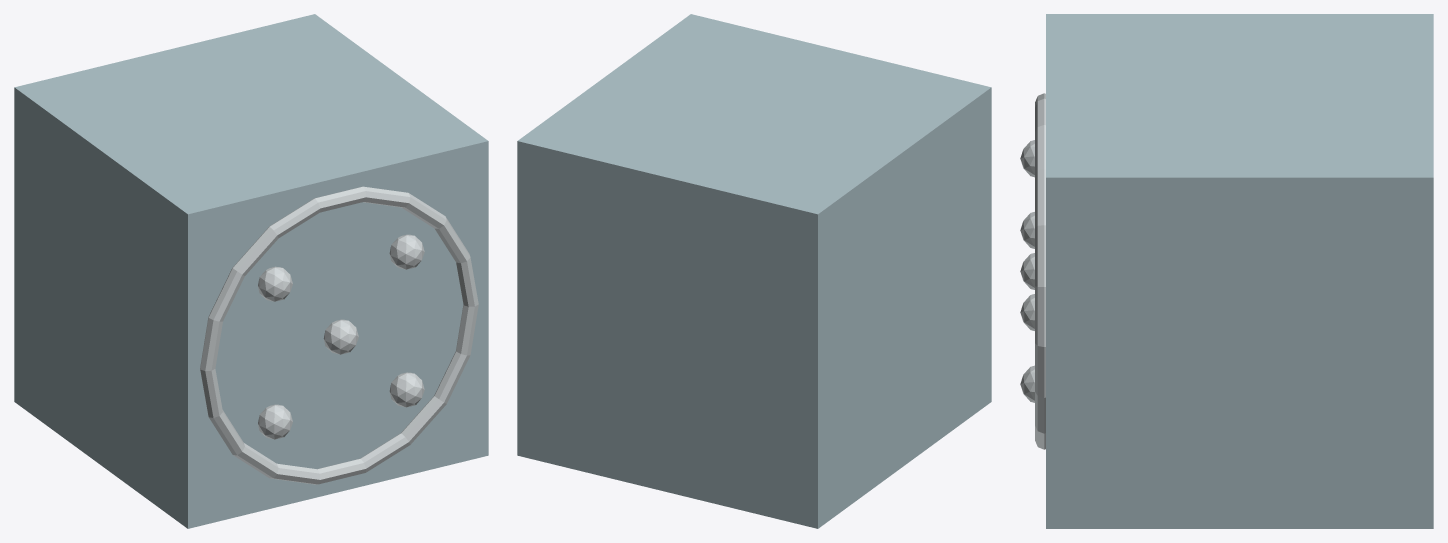
Rendered from wind.glb.
The picture shows the model from 3 angles, left to right: view 1: azimuth 30°, elevation 25°; view 2: azimuth 150°, elevation 25°; view 3: azimuth 270°, elevation 25°; orthographic projection. The views are drawn at different scales.
Visible parts, largest first — view 1: world; view 2: world; view 3: world.
Boxes of the visible parts, <box> form: world: <box>14,14,488,528</box>; world: <box>517,14,991,528</box>; world: <box>1020,14,1433,528</box>.
Bounding box in the file's own units: 1.05 × 1.05 × 1.12.
